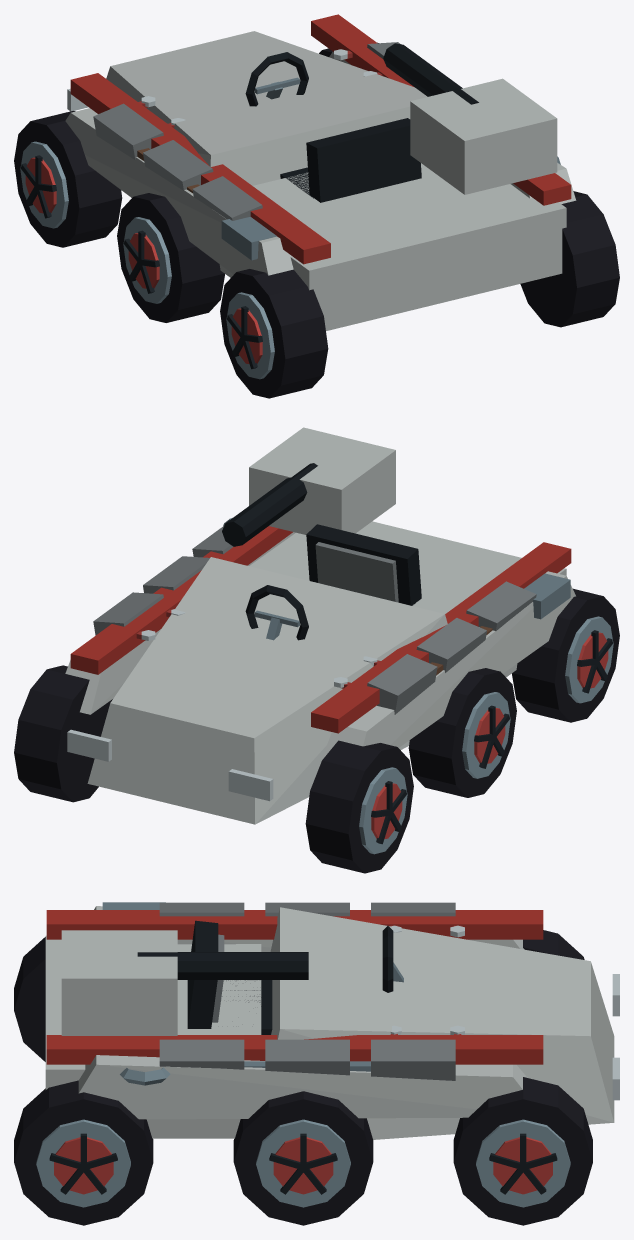
File: kart.glb
3 views of the same model, one above another, from view 1: azimuth 30°, elevation 25°; view 2: azimuth 150°, elevation 25°; view 3: azimuth 270°, elevation 25° (orthographic). The views are drawn at different scales.
Parts seen in each view (by area): view 1: identity-mako-mako-wedge-rover, wheel-rear-left, wheel-front-left, wheel-middle-left, identity-mako-driver-cockpit, wheel-rear-right, identity-mako-motif-armor, identity-mako-motif-tools; view 2: identity-mako-mako-wedge-rover, wheel-front-left, wheel-middle-left, identity-mako-motif-armor, wheel-rear-left, wheel-front-right, identity-mako-driver-cockpit, identity-mako-motif-tools; view 3: identity-mako-mako-wedge-rover, wheel-front-right, wheel-rear-right, wheel-middle-right, identity-mako-motif-armor, identity-mako-driver-cockpit, wheel-rear-left, identity-mako-motif-tools, wheel-front-left, identity-mako-motif-circuit.
Boxes of the visible parts, x1,y1,x2,y2 form: identity-mako-mako-wedge-rover: [65, 14, 576, 330]; wheel-rear-left: [220, 269, 328, 398]; wheel-front-left: [14, 111, 122, 247]; wheel-middle-left: [117, 193, 224, 322]; identity-mako-driver-cockpit: [245, 52, 421, 202]; wheel-rear-right: [520, 191, 619, 327]; identity-mako-motif-armor: [93, 42, 400, 220]; identity-mako-motif-tools: [137, 148, 560, 260]; identity-mako-mako-wedge-rover: [65, 427, 575, 824]; wheel-front-left: [305, 740, 413, 873]; wheel-middle-left: [408, 668, 516, 797]; identity-mako-motif-armor: [93, 526, 536, 714]; wheel-rear-left: [512, 588, 619, 722]; wheel-front-right: [14, 665, 112, 802]; identity-mako-driver-cockpit: [245, 524, 421, 640]; identity-mako-motif-tools: [223, 517, 570, 675]; identity-mako-mako-wedge-rover: [45, 906, 619, 1139]; wheel-front-right: [453, 1077, 592, 1225]; wheel-rear-right: [14, 1080, 153, 1225]; wheel-middle-right: [233, 1091, 373, 1225]; identity-mako-motif-armor: [159, 902, 455, 1080]; identity-mako-driver-cockpit: [187, 920, 403, 1034]; wheel-rear-left: [14, 937, 45, 1061]; identity-mako-motif-tools: [102, 902, 370, 1085]; wheel-front-left: [523, 930, 584, 959]; identity-mako-motif-circuit: [390, 925, 464, 1034].
Size of the model in its own units: 2.07 by 1.19 by 2.87.
